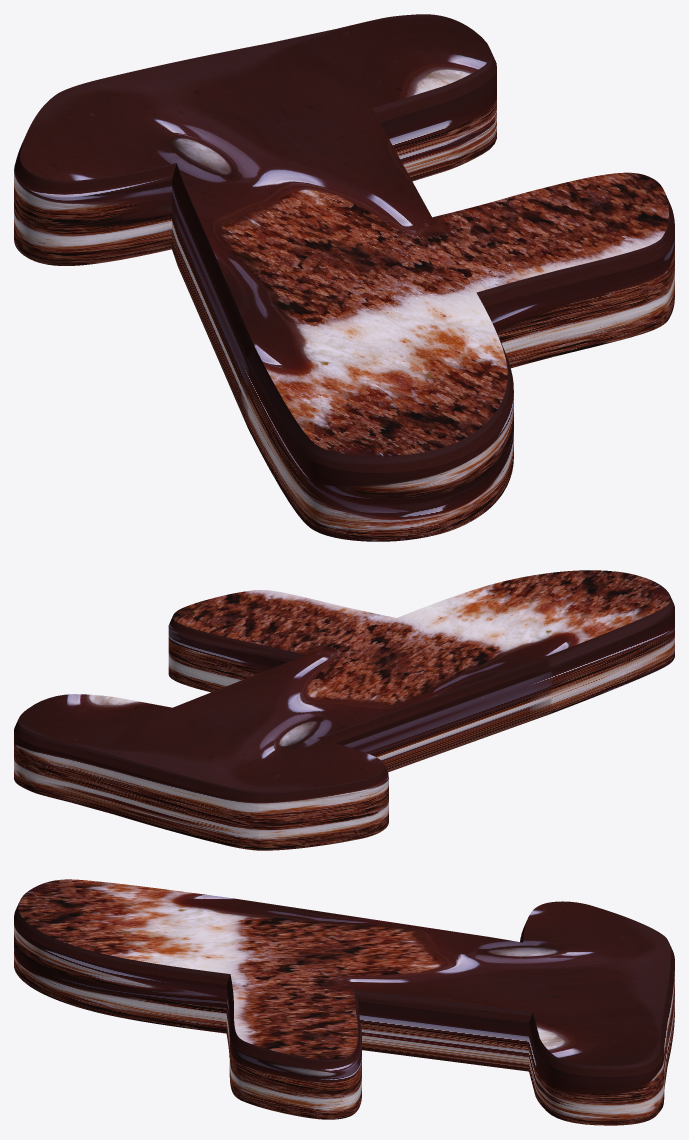
Rendered from myF.FBX.
3 renders of one model, top to bottom at view 1: azimuth 30°, elevation 25°; view 2: azimuth 150°, elevation 25°; view 3: azimuth 270°, elevation 25°, orthographic. The views are drawn at different scales.
Parts seen in each view (by area): view 1: myB; view 2: myB; view 3: myB.
Boxes of the visible parts, box(x1,y1,x2,y2) form: myB: box(14, 14, 674, 541); myB: box(14, 570, 674, 850); myB: box(14, 879, 674, 1125).
Size of the model in its own units: 42.1 by 6 by 61.9.
Materials: 1 (1 with a texture image).
